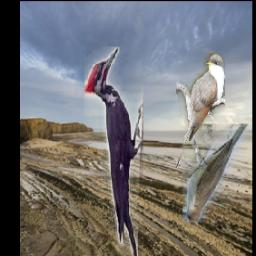Cuckoo: (182, 125, 248, 223), (176, 53, 225, 168)
Woodpecker: (84, 48, 143, 256)
